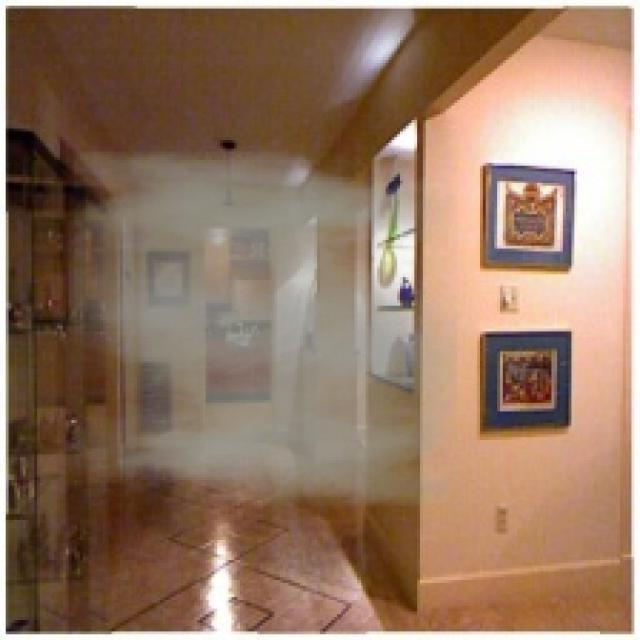Smoke: (69, 151, 458, 506)
